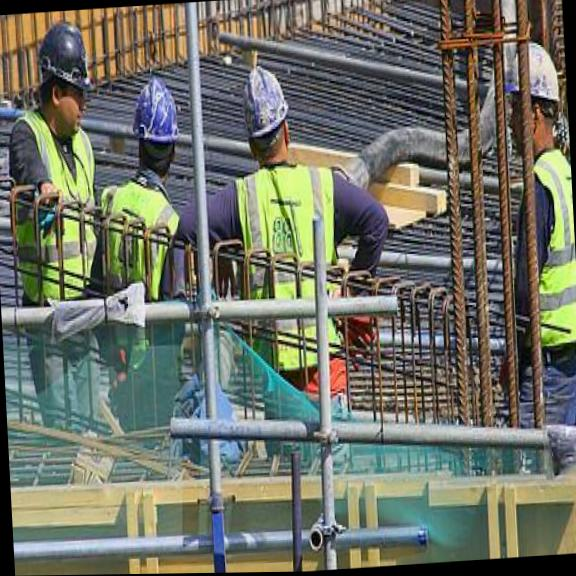safety_vest: (231, 159, 351, 373), (10, 105, 104, 302), (515, 143, 576, 353), (96, 172, 187, 303)
